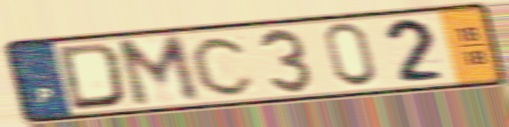0: (321, 20, 382, 91)
2: (381, 15, 454, 87)
3: (257, 26, 314, 96)
C: (188, 34, 259, 99)
D: (55, 40, 129, 113)
M: (112, 32, 205, 110)
